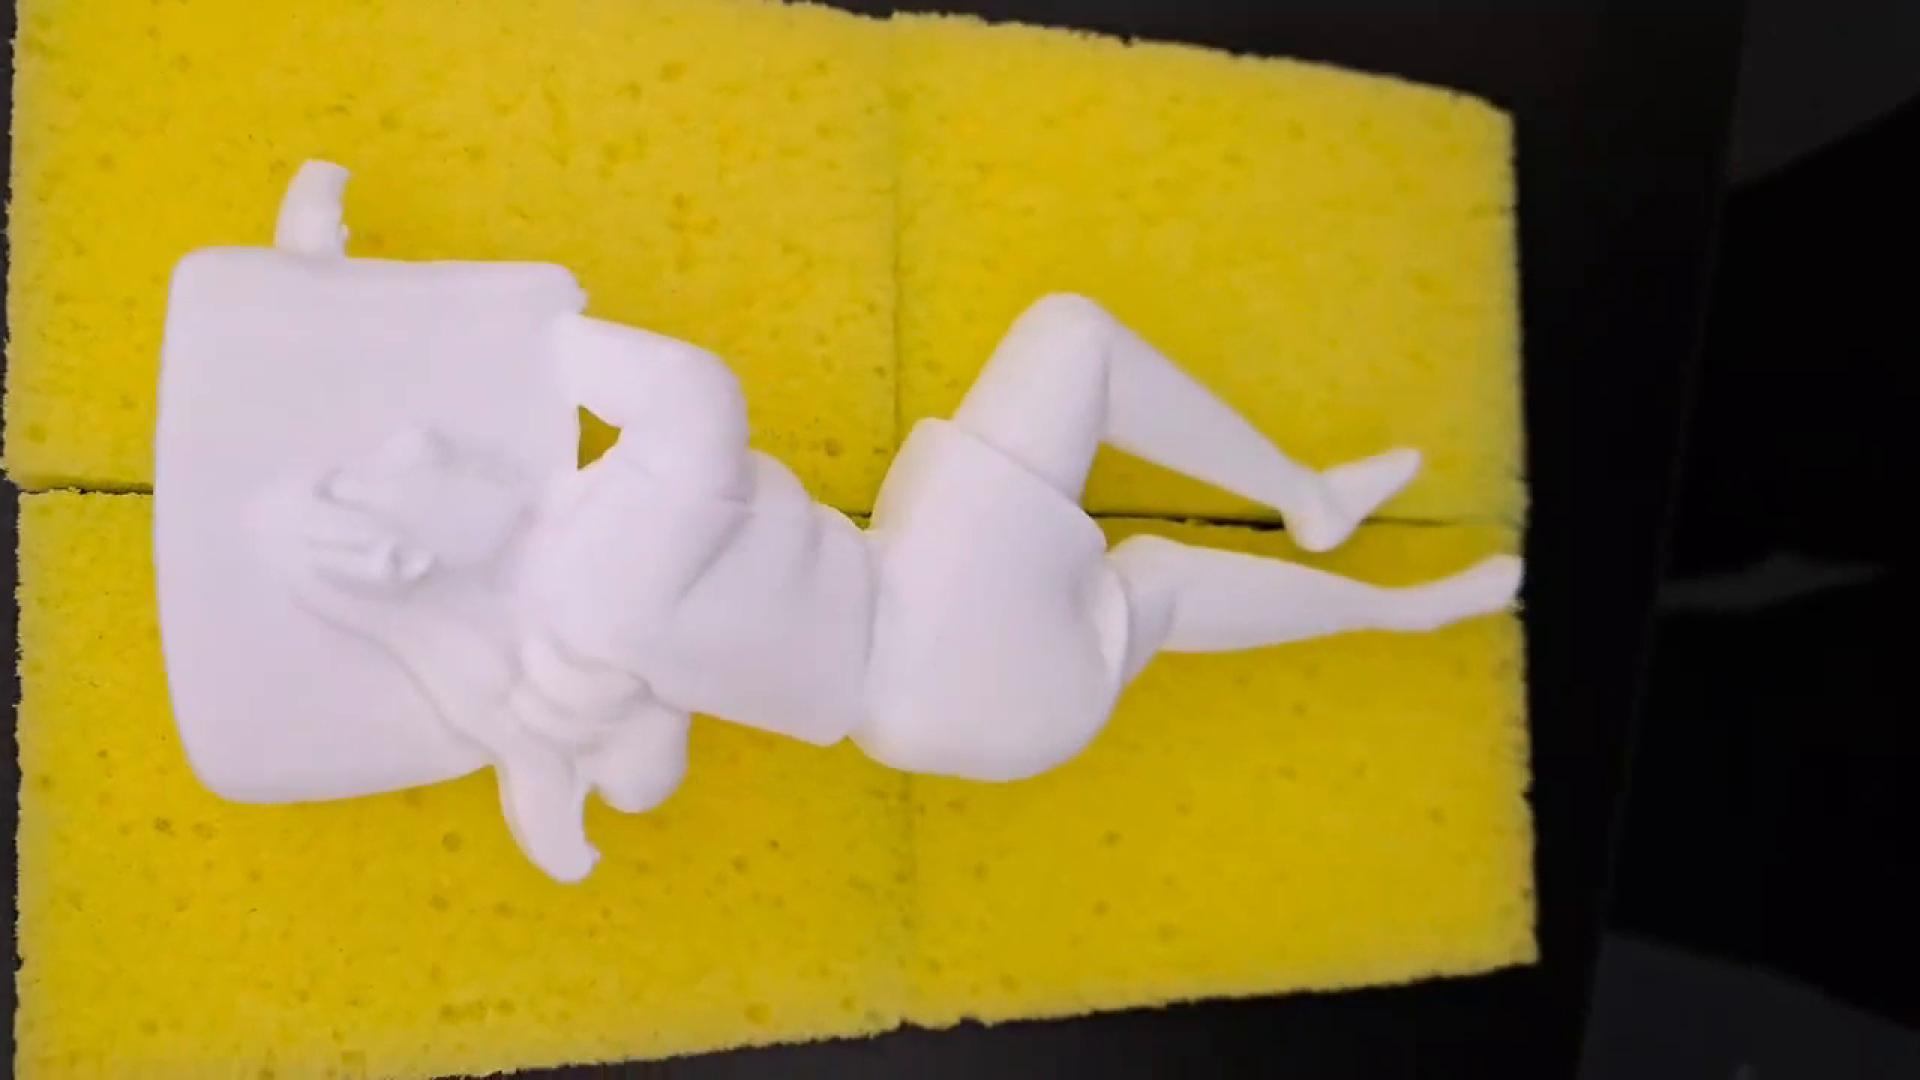Good-style: (152, 158, 1520, 887)
